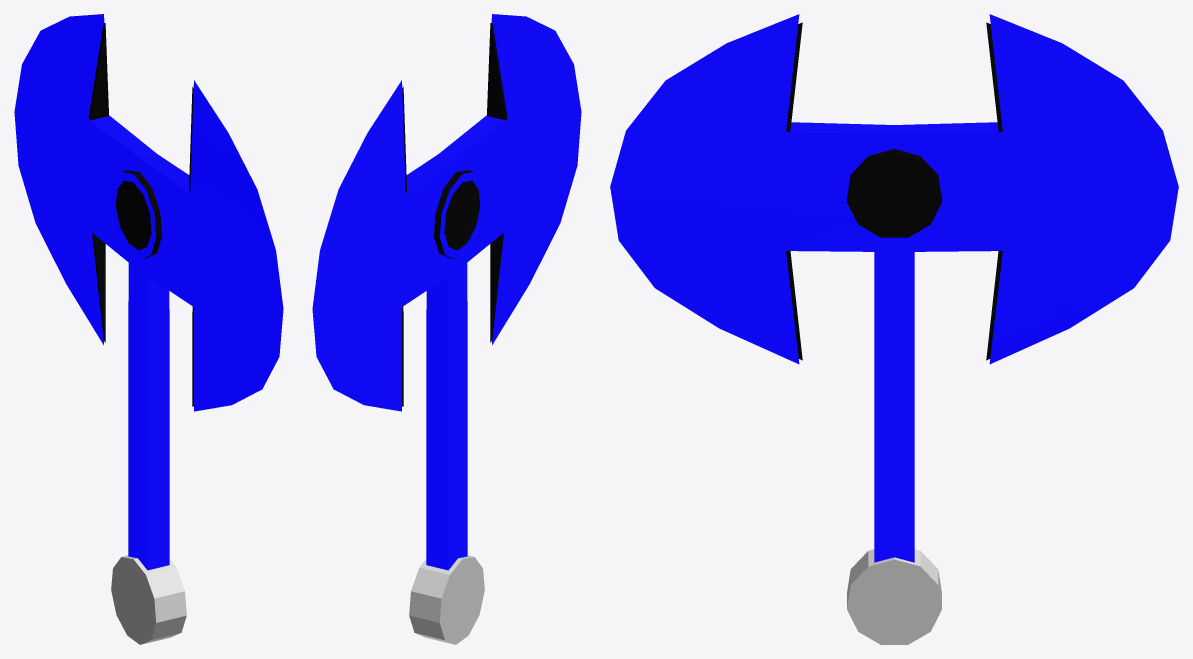
Rendered from axe2.fbx.
3 views of the same model, side by side, from view 1: azimuth 30°, elevation 25°; view 2: azimuth 150°, elevation 25°; view 3: azimuth 270°, elevation 25° (orthographic). The views are drawn at different scales.
Visible parts, largest first — view 1: Cube, Cylinder, Cylinder.001; view 2: Cube, Cylinder, Cylinder.001; view 3: Cube, Cylinder, Cylinder.001.
Part boxes in pixels (bbox=[...]): Cube: bbox=[14, 14, 283, 570]; Cylinder: bbox=[111, 555, 186, 644]; Cylinder.001: bbox=[111, 170, 162, 259]; Cube: bbox=[312, 14, 581, 570]; Cylinder: bbox=[409, 555, 484, 644]; Cylinder.001: bbox=[433, 170, 484, 259]; Cube: bbox=[610, 14, 1178, 562]; Cylinder: bbox=[847, 549, 941, 644]; Cylinder.001: bbox=[847, 149, 941, 237].
Size of the model in its own units: 19.25 by 354 by 293.
